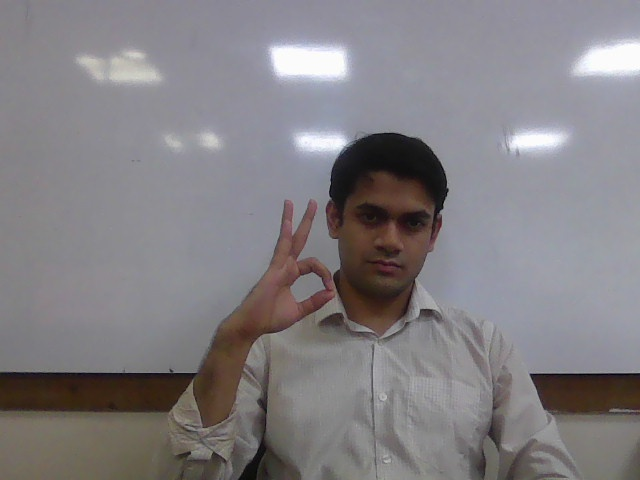Shundor: (244, 197, 338, 337)
